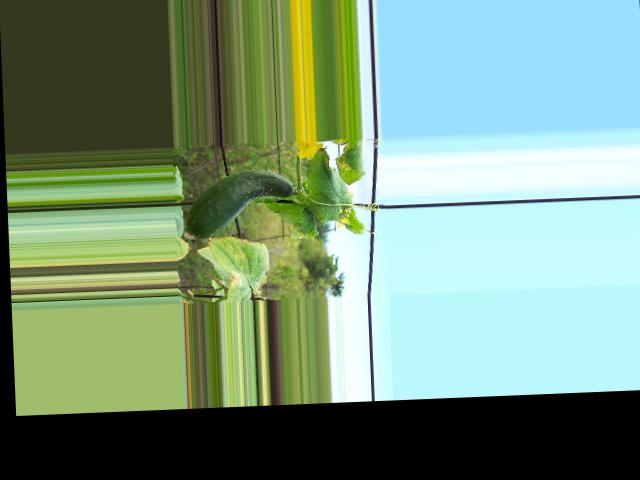cucumber: (184, 168, 296, 239)
